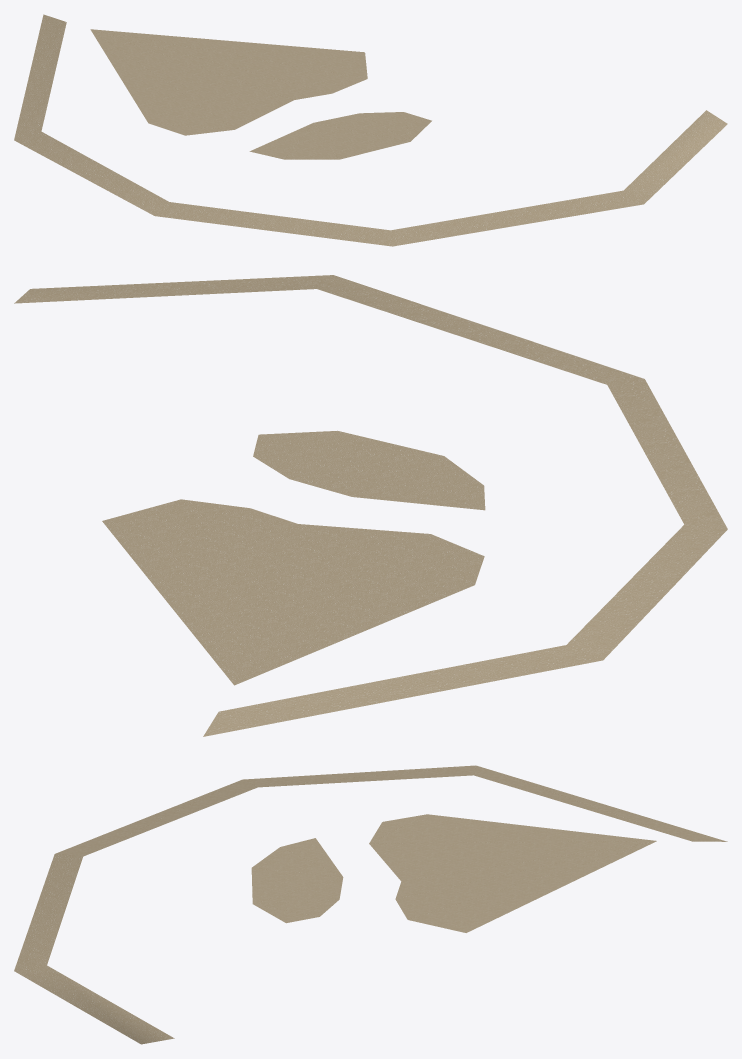
The model's file is kd_stage_1364a3_9_1.glb.
3 views of the same model, one above another, from view 1: azimuth 30°, elevation 25°; view 2: azimuth 150°, elevation 25°; view 3: azimuth 270°, elevation 25° (orthographic). The views are drawn at different scales.
Parts seen in each view (by area): view 1: kd_stage_1364a3_9_1; view 2: kd_stage_1364a3_9_1; view 3: kd_stage_1364a3_9_1.
Boxes of the visible parts, left/top/right/bottom form: kd_stage_1364a3_9_1: left=14, top=14, right=727, bottom=246; kd_stage_1364a3_9_1: left=14, top=275, right=727, bottom=736; kd_stage_1364a3_9_1: left=14, top=765, right=727, bottom=1044.
Size of the model in its own units: 39.31 by 0.4985 by 42.51.
Materials: 1 (1 with a texture image).
